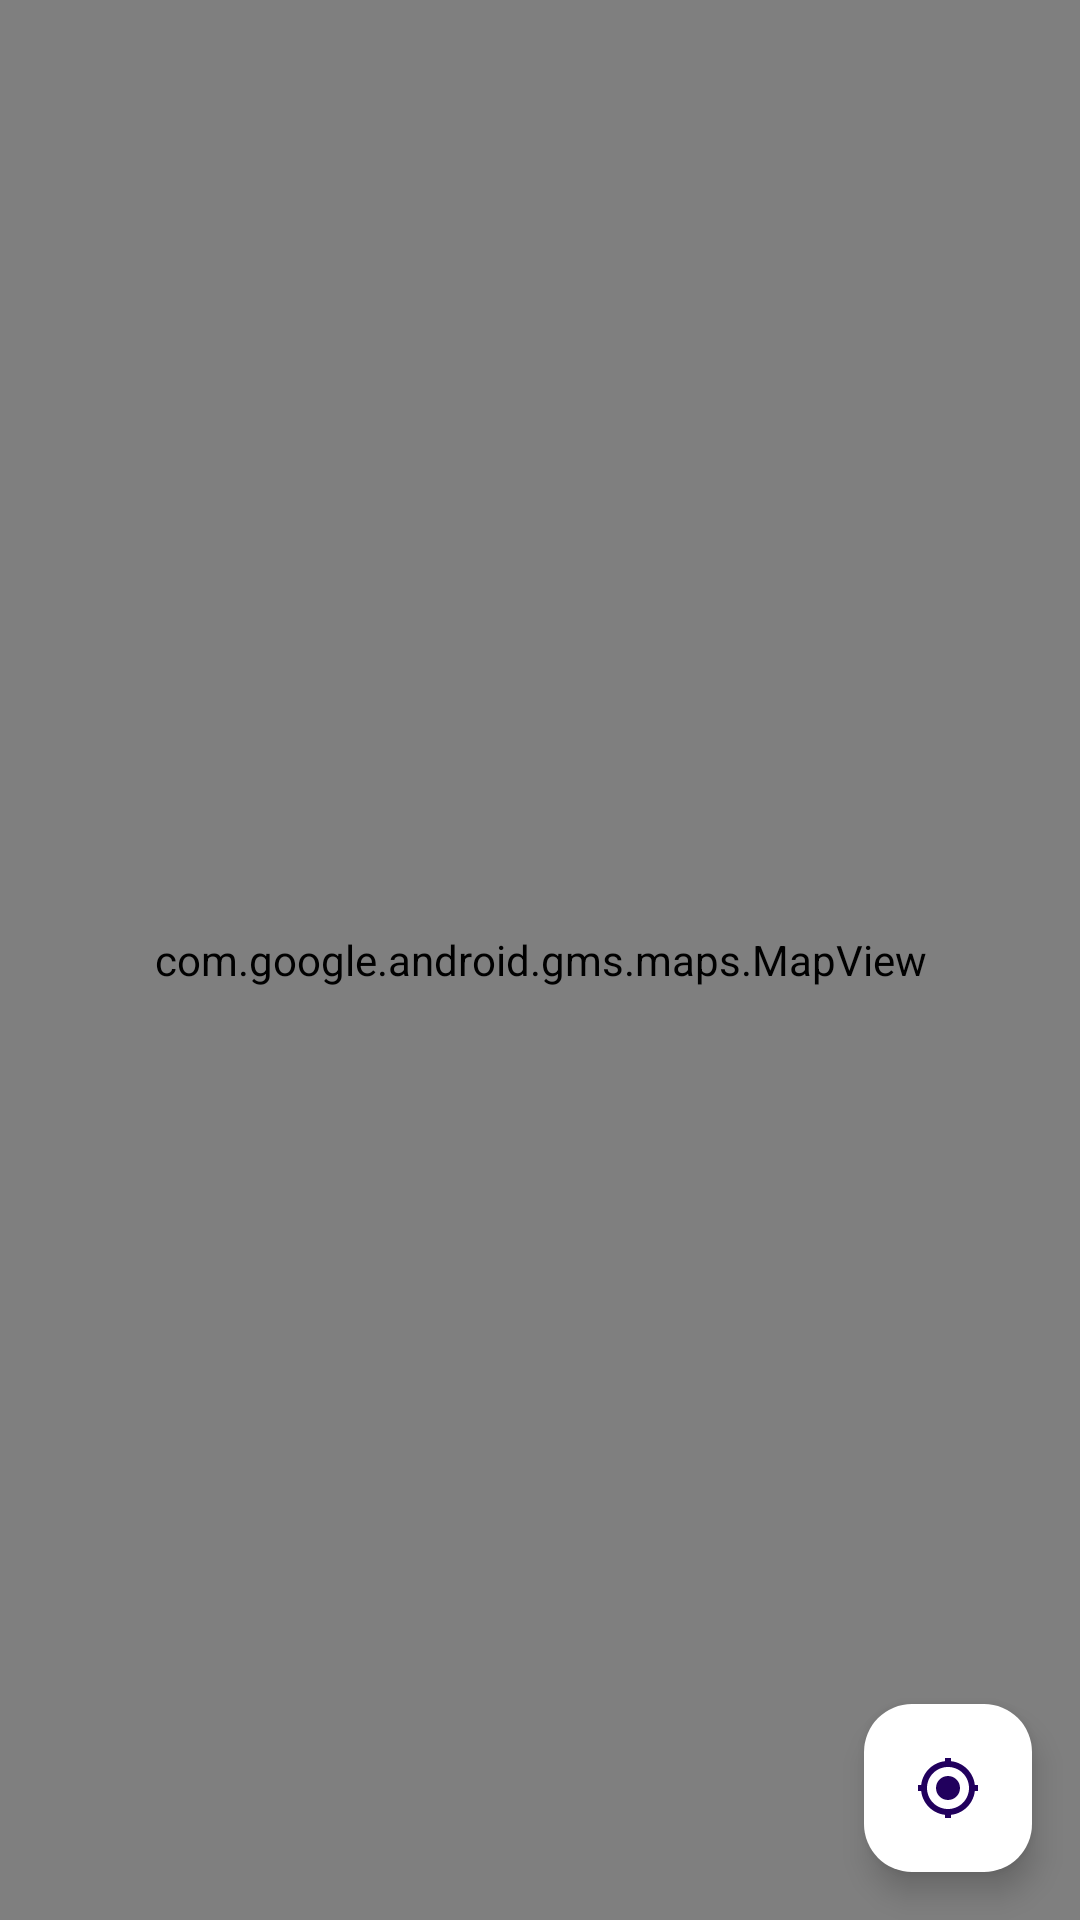

Locate icon controls on the screen. Image size 1080px×1920px, boxes as (x1, y1, x2, y2).
Centrar ubicación: (864, 1704, 1032, 1872)
